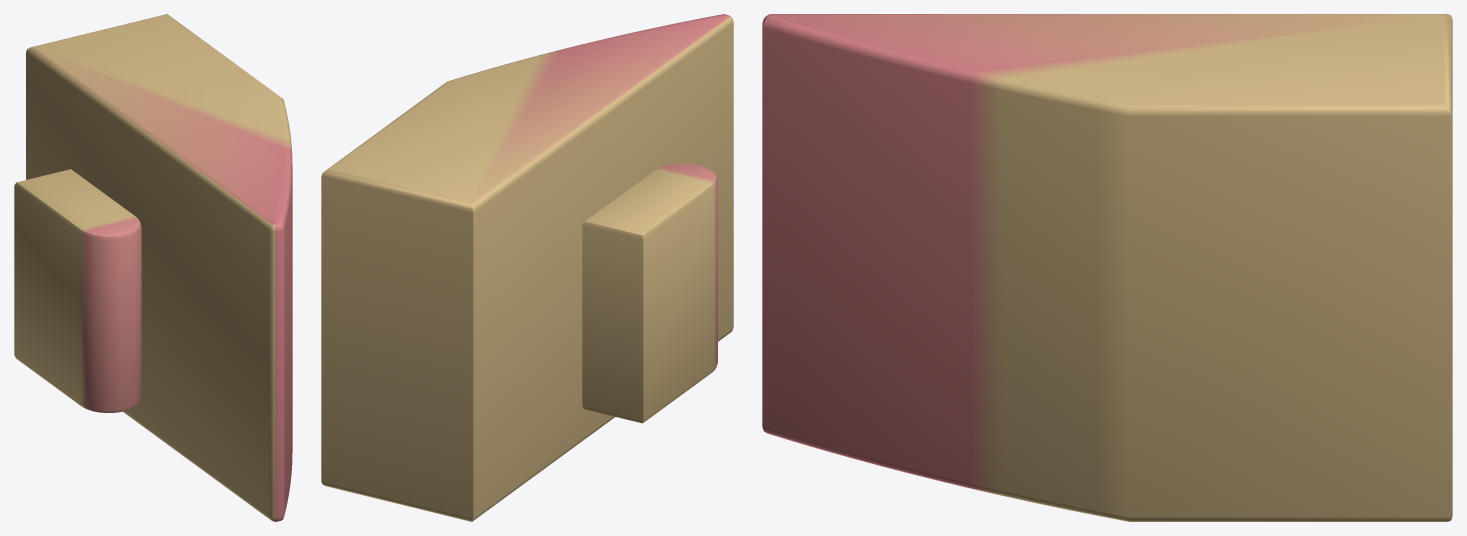
The model's file is Kit_Lock_Latchbolt_Bored_Brass.fbx.
The picture shows the model from 3 angles, left to right: view 1: azimuth 30°, elevation 25°; view 2: azimuth 150°, elevation 25°; view 3: azimuth 270°, elevation 25°; orthographic projection. The views are drawn at different scales.
Parts seen in each view (by area): view 1: Kit_Lock_Latchbolt_Bored_LOD0; view 2: Kit_Lock_Latchbolt_Bored_LOD0; view 3: Kit_Lock_Latchbolt_Bored_LOD0.
Part boxes in pixels (left/top/right/bottom): Kit_Lock_Latchbolt_Bored_LOD0: left=14, top=14, right=292, bottom=521; Kit_Lock_Latchbolt_Bored_LOD0: left=321, top=14, right=733, bottom=521; Kit_Lock_Latchbolt_Bored_LOD0: left=762, top=14, right=1452, bottom=521.
Size of what is drawn, in the model's own units: 0.016 by 0.02 by 0.03.
